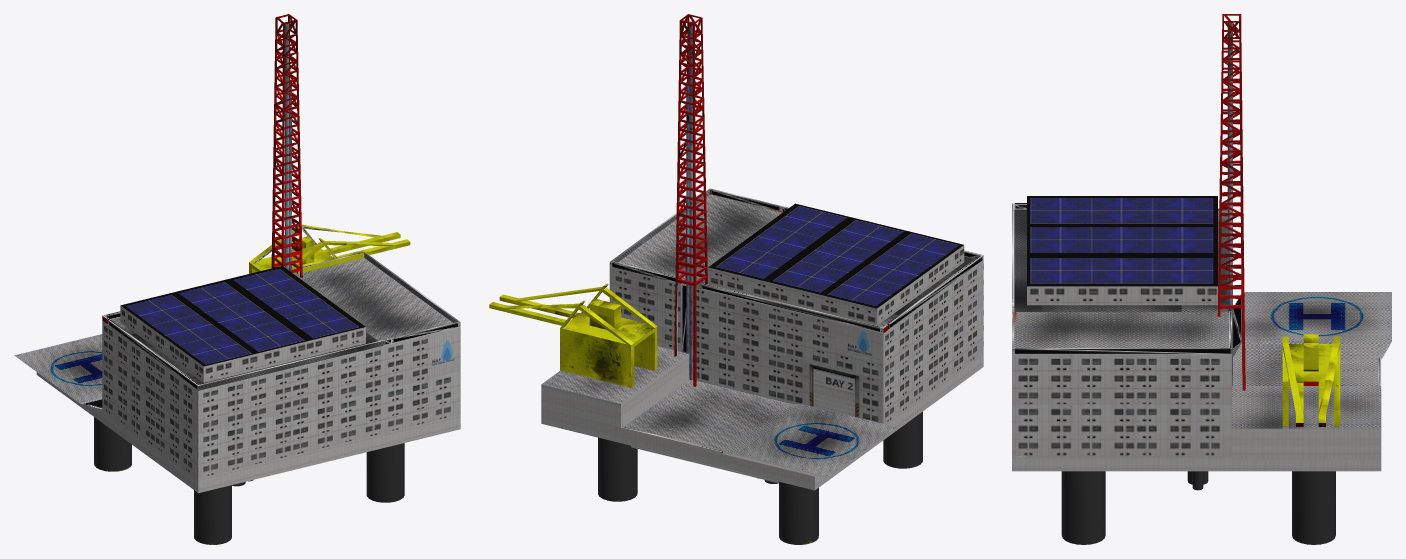
File: oilRig.fbx
3 renders of one model, left to right at view 1: azimuth 30°, elevation 25°; view 2: azimuth 150°, elevation 25°; view 3: azimuth 270°, elevation 25°, orthographic. The views are drawn at different scales.
Visible parts, largest first — view 1: polySurface1; view 2: polySurface1; view 3: polySurface1.
Part boxes in pixels (<box>): polySurface1: <box>14,14,460,544</box>; polySurface1: <box>489,14,983,544</box>; polySurface1: <box>1012,14,1391,544</box>.
Bounding box in the file's own units: 41.19 × 48.6 × 33.5.
1 material, 1 textured.
